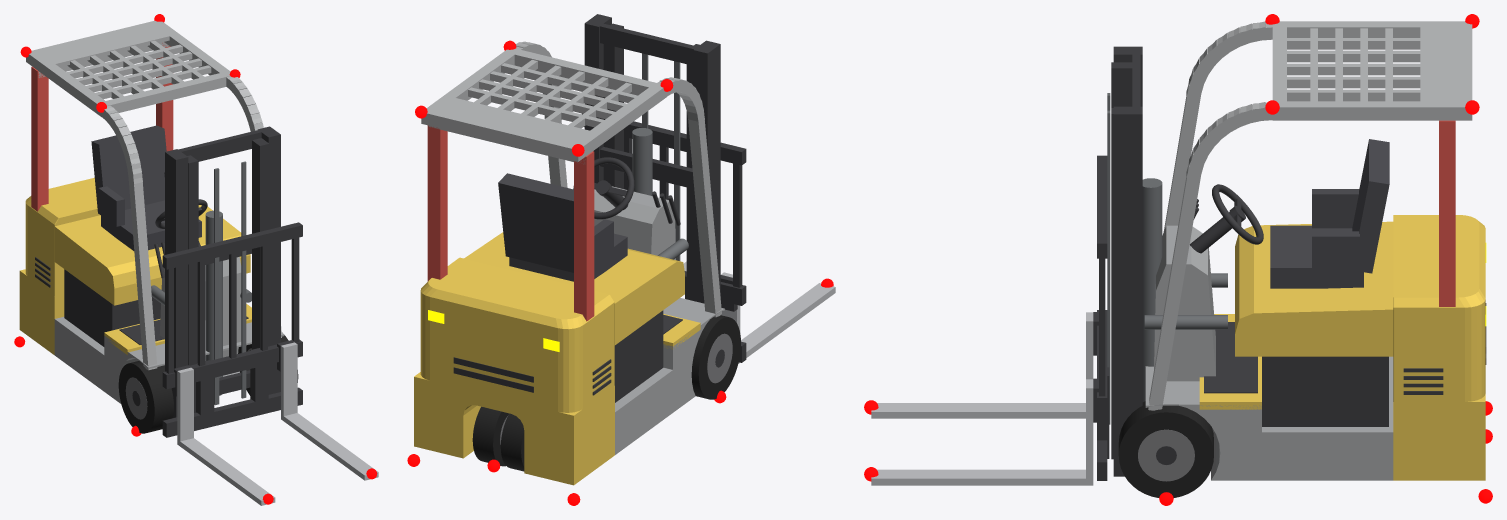
Rendered from toyota_3w.glb.
The picture shows the model from 3 angles, left to right: view 1: azimuth 30°, elevation 25°; view 2: azimuth 150°, elevation 25°; view 3: azimuth 270°, elevation 25°; orthographic projection. The views are drawn at different scales.
Parts seen in each view (by area): view 1: overhead_guard, carriage, mast, cab, mast_inner, counterweight, hood, body, overhead_guard_rear, battery, wheel_front_right, fork_left (+1 smaller); view 2: counterweight, overhead_guard, cab, mast, overhead_guard_rear, body, hood, mast_inner, carriage, wheel_front_right, battery, fork_right (+2 smaller); view 3: overhead_guard, counterweight, cab, body, mast, hood, battery, wheel_front_left, fork_left, fork_right, carriage, mast_inner (+1 smaller).
Boxes of the visible parts, x1=… form: overhead_guard: x1=26, y1=20, x2=281, y2=370; carriage: x1=162, y1=222, x2=302, y2=437; mast: x1=151, y1=126, x2=280, y2=417; cab: x1=91, y1=125, x2=241, y2=350; mast_inner: x1=187, y1=138, x2=269, y2=412; counterweight: x1=19, y1=177, x2=100, y2=354; hood: x1=54, y1=205, x2=250, y2=305; body: x1=54, y1=304, x2=284, y2=403; overhead_guard_rear: x1=31, y1=43, x2=173, y2=211; battery: x1=64, y1=269, x2=160, y2=346; wheel_front_right: x1=118, y1=361, x2=173, y2=433; fork_left: x1=277, y1=340, x2=378, y2=480; counterweight: x1=414, y1=257, x2=614, y2=485; overhead_guard: x1=421, y1=41, x2=721, y2=317; cab: x1=498, y1=157, x2=680, y2=281; mast: x1=584, y1=14, x2=720, y2=303; overhead_guard_rear: x1=427, y1=125, x2=594, y2=321; body: x1=615, y1=298, x2=724, y2=454; hood: x1=464, y1=232, x2=684, y2=345; mast_inner: x1=603, y1=23, x2=699, y2=300; carriage: x1=582, y1=113, x2=746, y2=362; wheel_front_right: x1=691, y1=315, x2=740, y2=399; battery: x1=614, y1=310, x2=663, y2=402; fork_right: x1=720, y1=272, x2=835, y2=363; overhead_guard: x1=1148, y1=21, x2=1472, y2=410; counterweight: x1=1393, y1=215, x2=1486, y2=480; cab: x1=1154, y1=139, x2=1389, y2=381; body: x1=1145, y1=314, x2=1393, y2=480; mast: x1=1113, y1=46, x2=1227, y2=476; hood: x1=1235, y1=221, x2=1393, y2=356; battery: x1=1262, y1=356, x2=1388, y2=426; wheel_front_left: x1=1118, y1=401, x2=1213, y2=497; fork_left: x1=871, y1=378, x2=1101, y2=485; fork_right: x1=871, y1=312, x2=1098, y2=418; carriage: x1=1097, y1=155, x2=1109, y2=480; mast_inner: x1=1107, y1=62, x2=1132, y2=459.
Size of the model in its own units: 1.12 by 2.13 by 3.02.
